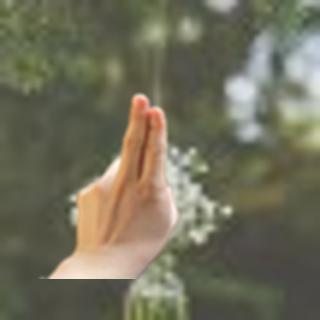DHAVE: (64, 87, 180, 259)
